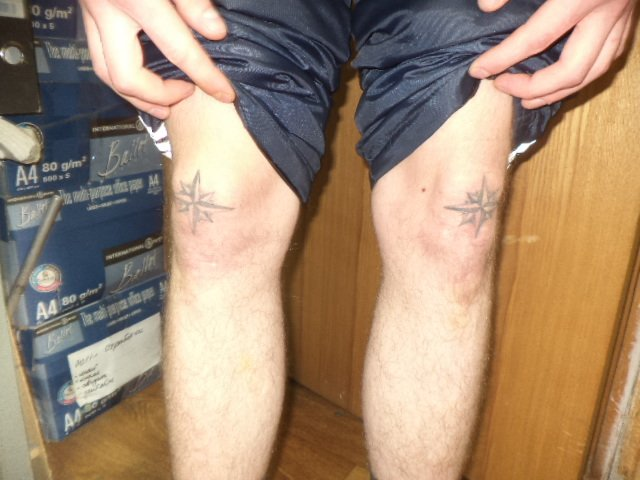tatu4_zvezda: (169, 168, 235, 240), (442, 174, 503, 241)
